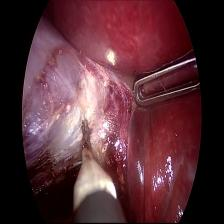Grasper: (132, 50, 202, 111)
Hook: (67, 116, 119, 202)
